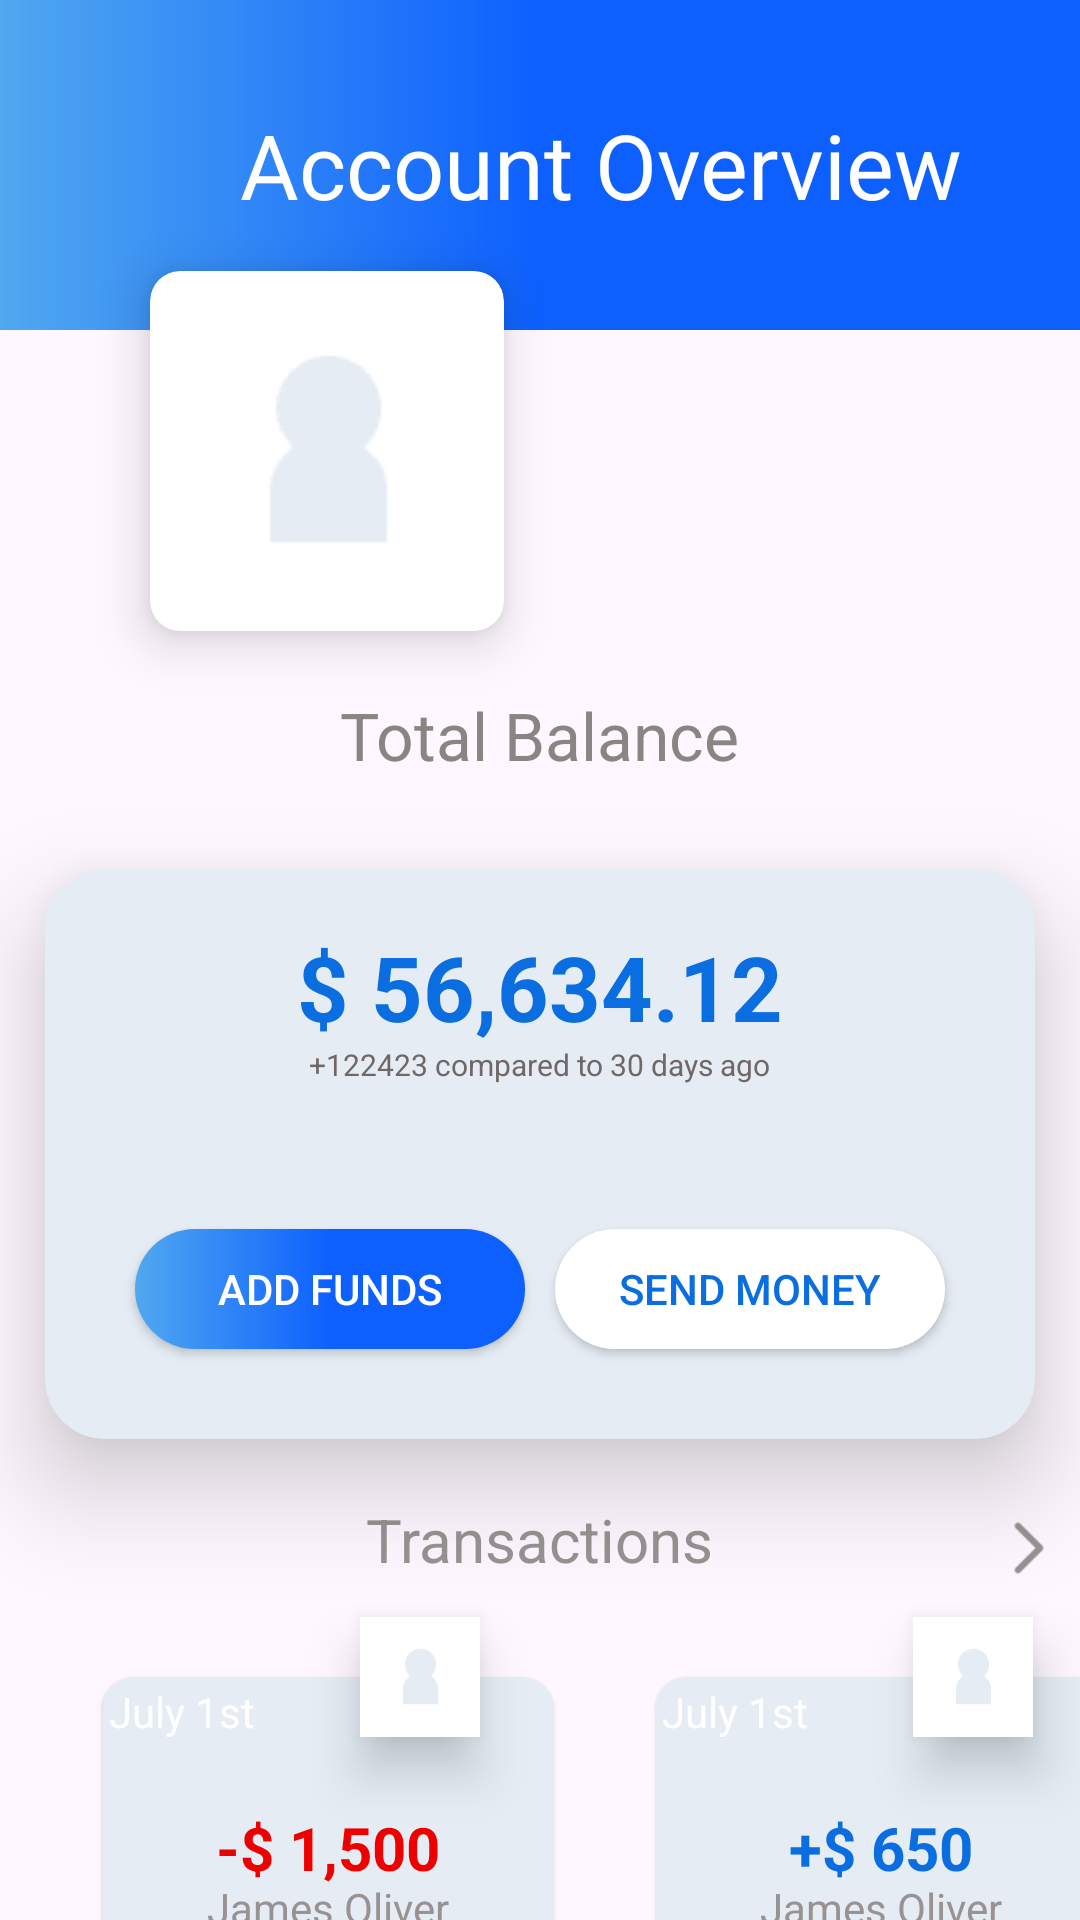

Named icons in this screenshot (1080px×1920px) and their bounding boxes, (x1, y1, x2, y2):
arrow: (1014, 1522, 1044, 1574)
